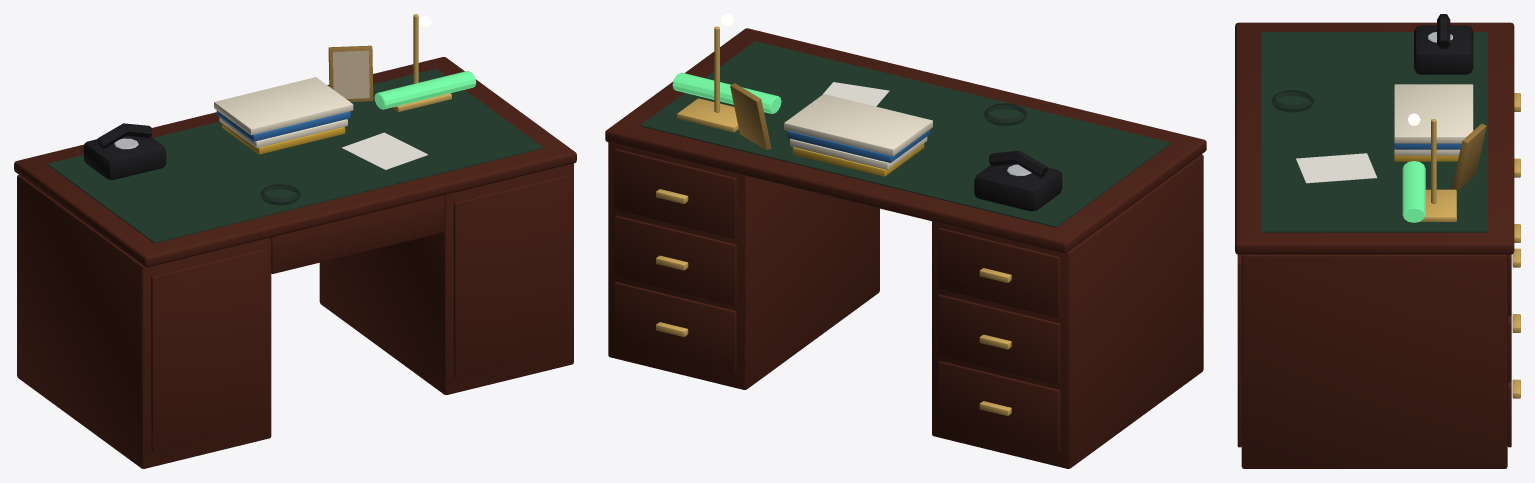
The model's file is mae_desk.glb.
3 views of the same model, side by side, from view 1: azimuth 30°, elevation 25°; view 2: azimuth 150°, elevation 25°; view 3: azimuth 270°, elevation 25° (orthographic). The views are drawn at different scales.
Parts seen in each view (by area): view 1: mae_desk; view 2: mae_desk; view 3: mae_desk.
Part boxes in pixels (x1,y1,x2,y2): mae_desk: [14, 14, 576, 468]; mae_desk: [605, 14, 1206, 468]; mae_desk: [1235, 14, 1520, 468].
Size of the model in its own units: 1.6 by 1.08 by 0.87.
